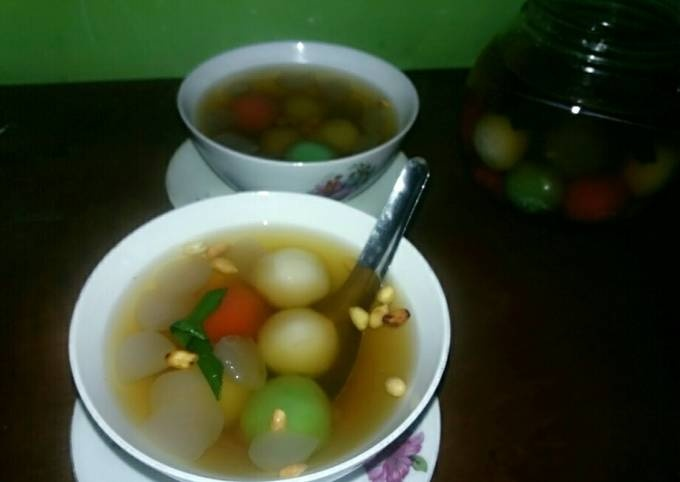ronde: (100, 225, 418, 482)
